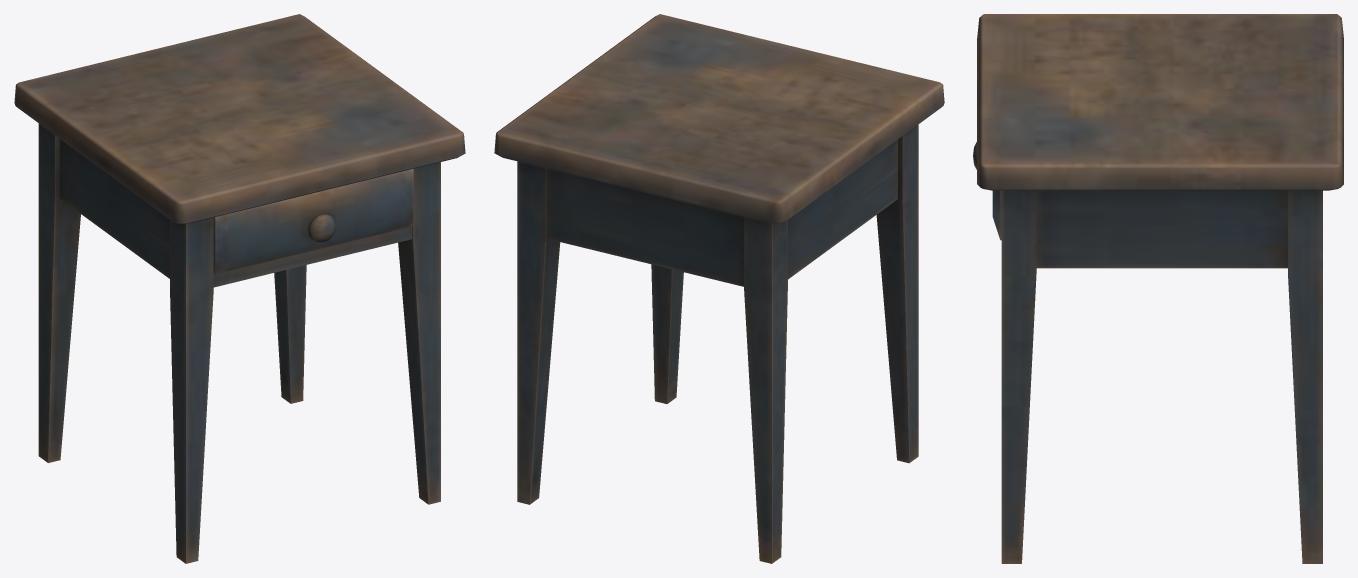
The picture shows the model from 3 angles, left to right: view 1: azimuth 30°, elevation 25°; view 2: azimuth 150°, elevation 25°; view 3: azimuth 270°, elevation 25°; orthographic projection. The views are drawn at different scales.
Parts seen in each view (by area): view 1: painted_wooden_nightstand, painted_wooden_nightstand_drawer; view 2: painted_wooden_nightstand; view 3: painted_wooden_nightstand, painted_wooden_nightstand_drawer.
Part boxes in pixels (x1,y1,x2,y2): painted_wooden_nightstand: (14,14,465,563); painted_wooden_nightstand_drawer: (213,168,413,274); painted_wooden_nightstand: (494,14,944,563); painted_wooden_nightstand: (977,14,1343,563); painted_wooden_nightstand_drawer: (973,142,1001,240).
Bounding box in the file's own units: 0.5046 × 0.6155 × 0.5087.
1 material, 1 textured.
